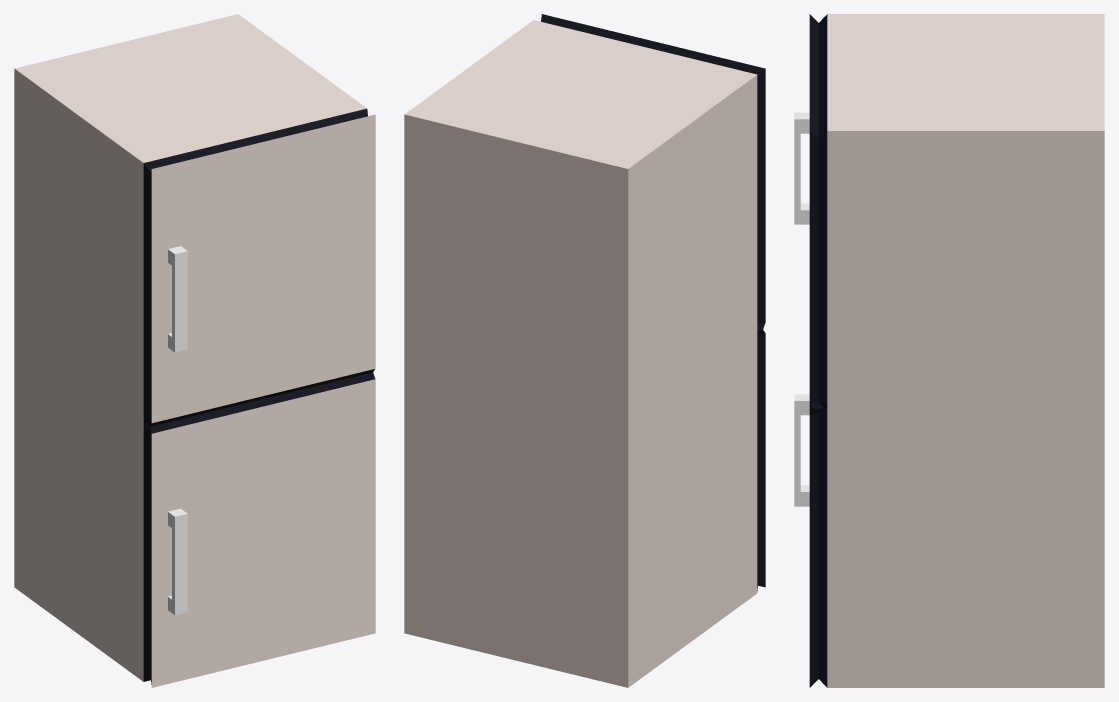
File: fridge.fbx
3 views of the same model, side by side, from view 1: azimuth 30°, elevation 25°; view 2: azimuth 150°, elevation 25°; view 3: azimuth 270°, elevation 25° (orthographic). The views are drawn at different scales.
Visible parts, largest first — view 1: Fridge; view 2: Fridge; view 3: Fridge.
Boxes of the visible parts, <box> form: Fridge: <box>14,14,375,687</box>; Fridge: <box>404,14,765,687</box>; Fridge: <box>794,14,1104,687</box>.
Size of the model in its own units: 2 by 4.43 by 2.24.
